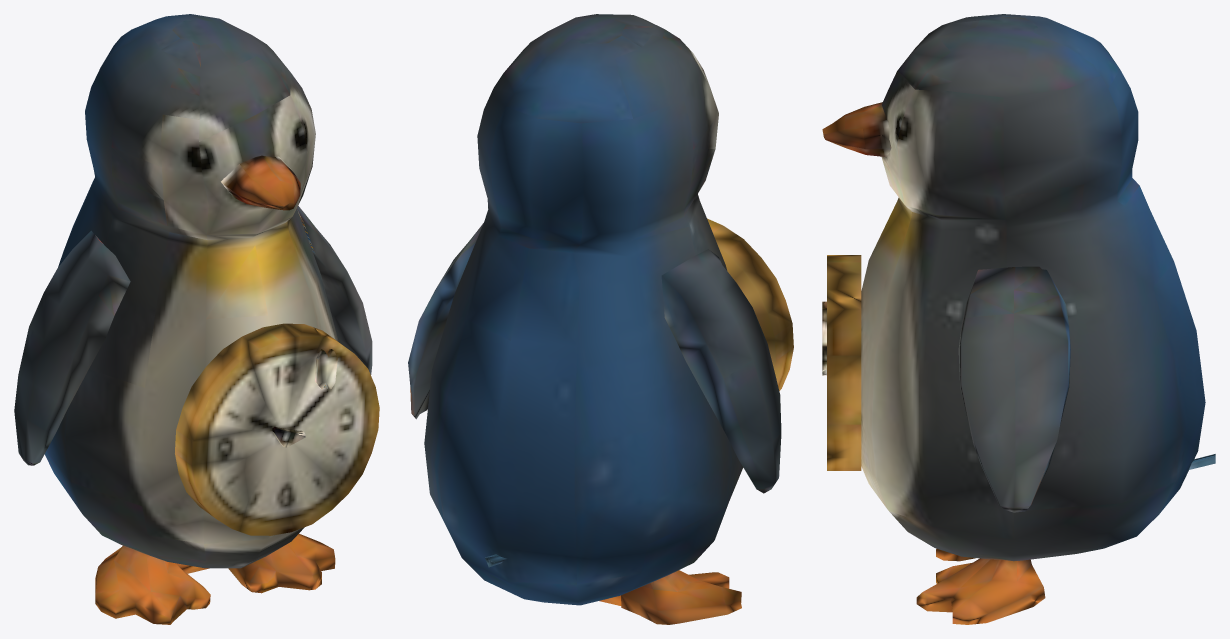
Rendered from penguin-09-34-clock-belly-tin-penguin.gltf.
3 views of the same model, side by side, from view 1: azimuth 30°, elevation 25°; view 2: azimuth 150°, elevation 25°; view 3: azimuth 270°, elevation 25° (orthographic). The views are drawn at different scales.
Parts seen in each view (by area): view 1: penguin-09-34-clock-belly-tin-penguin; view 2: penguin-09-34-clock-belly-tin-penguin; view 3: penguin-09-34-clock-belly-tin-penguin.
Part boxes in pixels (left/top/right/bottom): penguin-09-34-clock-belly-tin-penguin: left=14, top=14, right=379, bottom=624; penguin-09-34-clock-belly-tin-penguin: left=408, top=14, right=793, bottom=624; penguin-09-34-clock-belly-tin-penguin: left=822, top=14, right=1215, bottom=624.
Bounding box in the file's own units: 0.1751 × 0.265 × 0.1736.
1 material, 1 textured.
